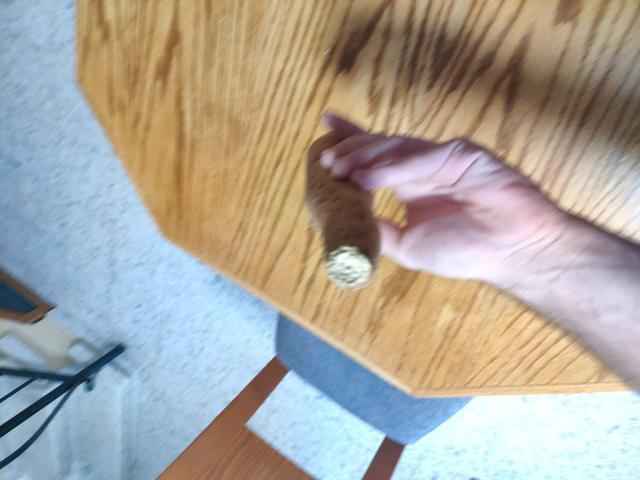sweet_potato: (296, 127, 418, 309)
